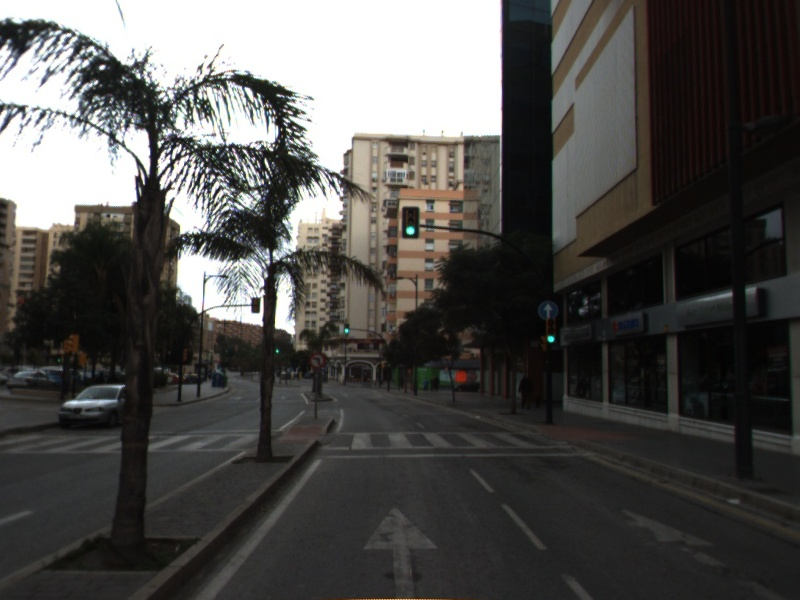STRAIGHT: (615, 502, 800, 600), (358, 499, 443, 600)
